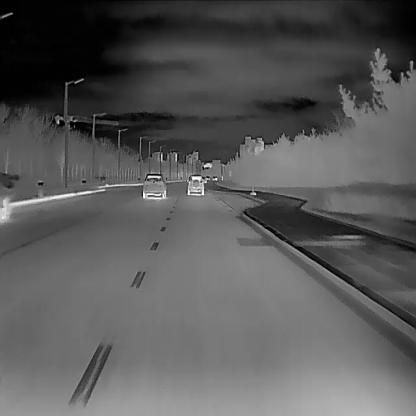car: (0, 170, 18, 223), (142, 172, 166, 198), (187, 174, 204, 195), (201, 174, 206, 184), (211, 176, 216, 180), (206, 176, 210, 180)
